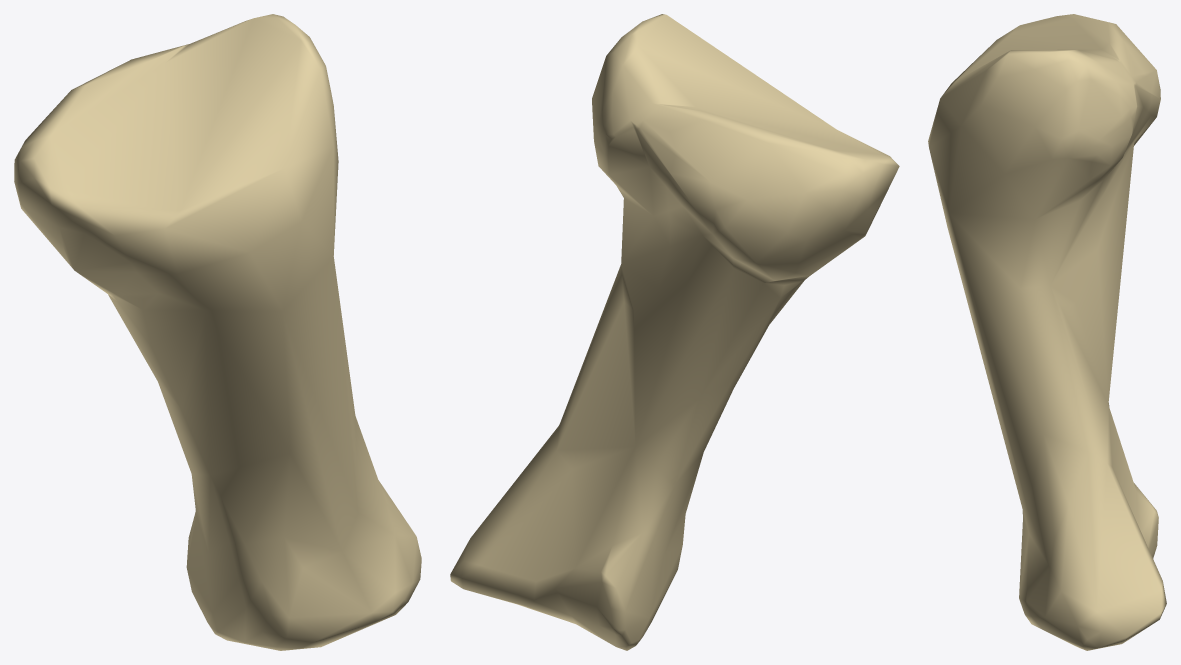
3 renders of one model, left to right at view 1: azimuth 30°, elevation 25°; view 2: azimuth 150°, elevation 25°; view 3: azimuth 270°, elevation 25°, orthographic. The views are drawn at different scales.
Visible parts, largest first — view 1: 左侧第五趾近节趾骨; view 2: 左侧第五趾近节趾骨; view 3: 左侧第五趾近节趾骨.
Boxes of the visible parts, bbox=[...] form: 左侧第五趾近节趾骨: bbox=[14, 14, 421, 650]; 左侧第五趾近节趾骨: bbox=[450, 14, 899, 650]; 左侧第五趾近节趾骨: bbox=[928, 14, 1166, 650].
Bounding box in the file's own units: 0.027 × 0.0395 × 0.0154.
